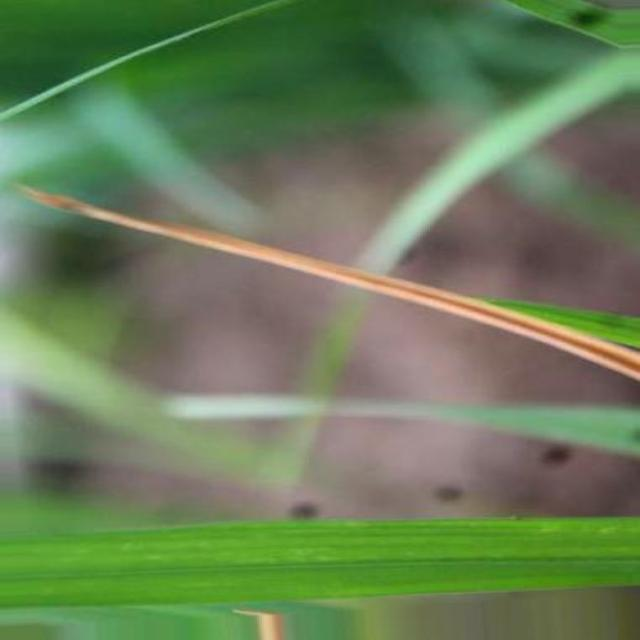Rice Tungro: (21, 188, 639, 381)
